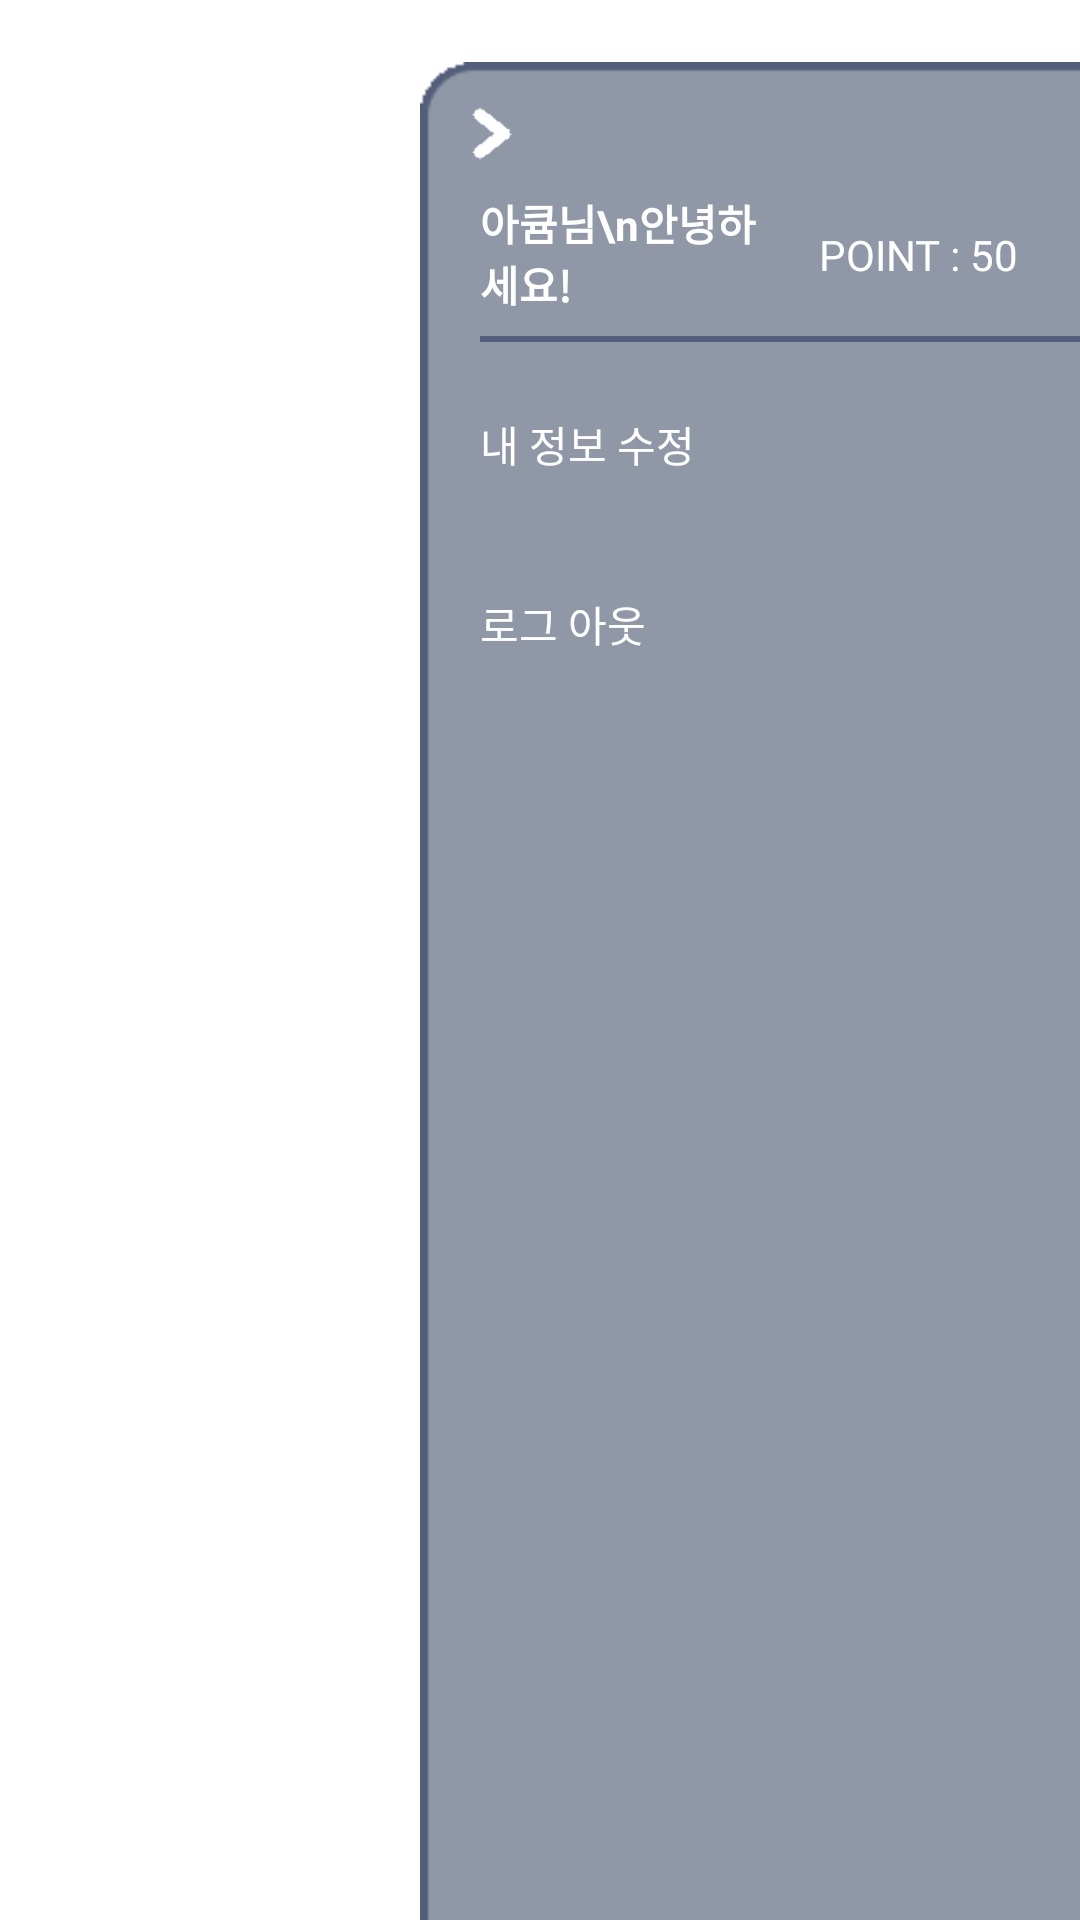

Point at icon controls on the screen. Image size 1080 x 1920, points as point (x, y).
blank arrow right: point (492, 133)
